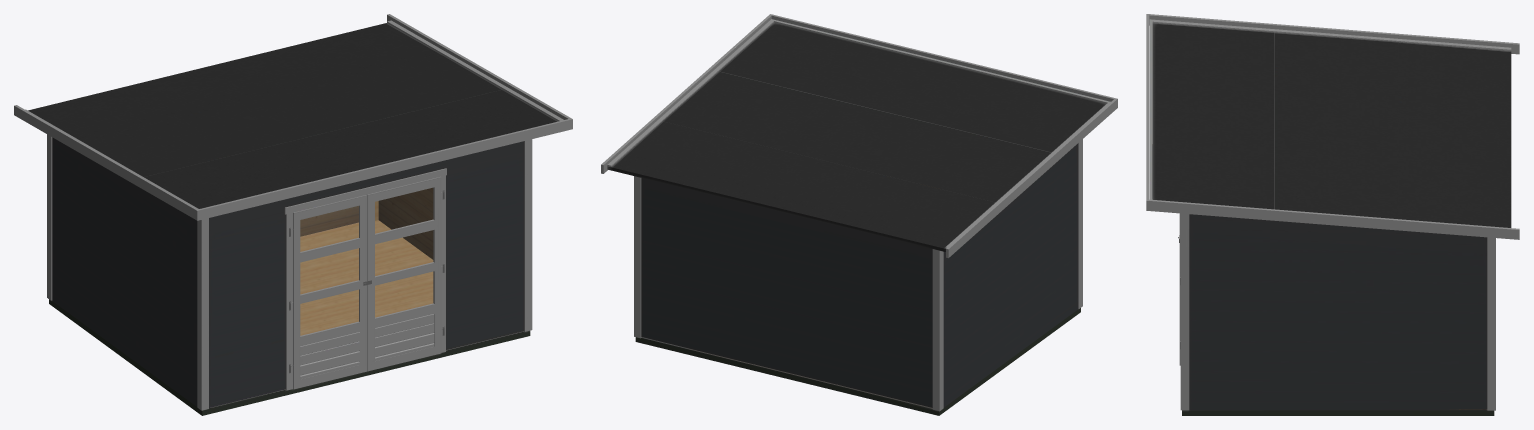
File: cabinar.glb
3 views of the same model, side by side, from view 1: azimuth 30°, elevation 25°; view 2: azimuth 150°, elevation 25°; view 3: azimuth 270°, elevation 25° (orthographic). The views are drawn at different scales.
Parts seen in each view (by area): view 1: OuterCabin_Low, WoodPiece_Low; view 2: OuterCabin_Low, WoodPiece_Low; view 3: OuterCabin_Low, WoodPiece_Low.
Part boxes in pixels (x1,y1,x2,y2): OuterCabin_Low: (14, 14, 572, 415); WoodPiece_Low: (52, 137, 523, 407); OuterCabin_Low: (601, 14, 1117, 415); WoodPiece_Low: (641, 143, 1077, 407); OuterCabin_Low: (1146, 14, 1519, 415); WoodPiece_Low: (1189, 214, 1487, 410).
Bounding box in the file's own units: 347 × 197 × 293.
3 materials, 2 textured.
